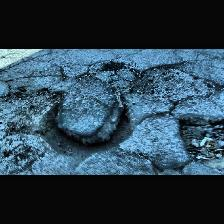pothole: (36, 96, 134, 162), (175, 116, 223, 164)
